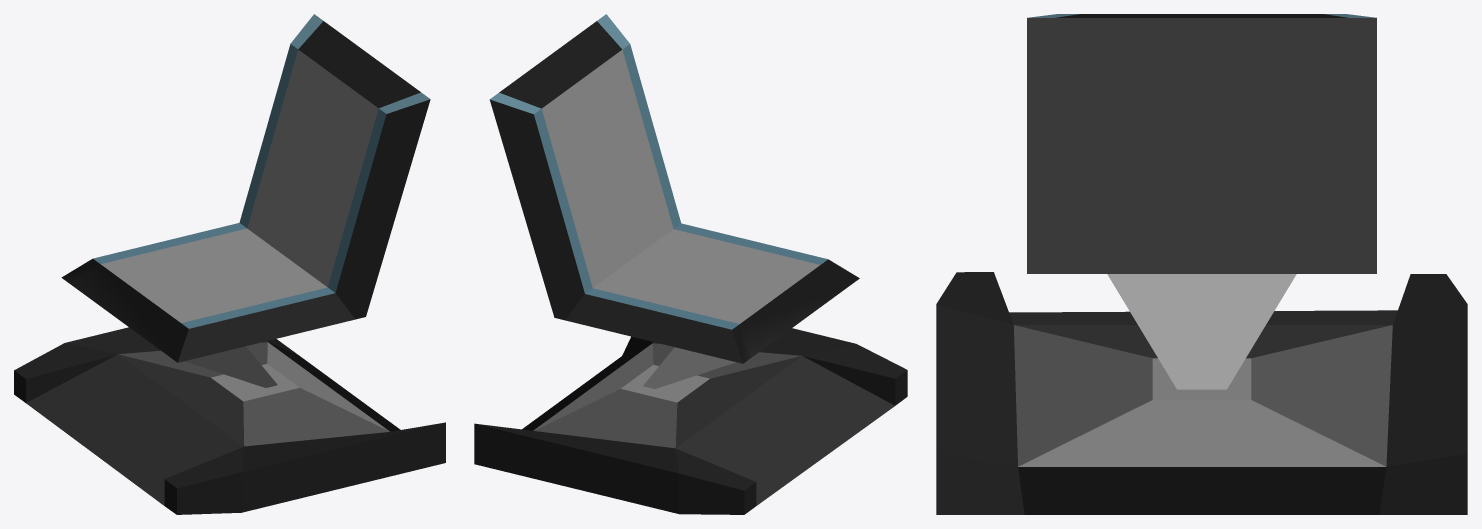
Rendered from SillaGamer.fbx.
3 views of the same model, side by side, from view 1: azimuth 30°, elevation 25°; view 2: azimuth 150°, elevation 25°; view 3: azimuth 270°, elevation 25° (orthographic). The views are drawn at different scales.
Visible parts, largest first — view 1: Cube.002; view 2: Cube.002; view 3: Cube.002.
Boxes of the visible parts, left/top/right/bottom form: Cube.002: left=14, top=14, right=445, bottom=514; Cube.002: left=474, top=14, right=907, bottom=514; Cube.002: left=936, top=14, right=1467, bottom=514.
Bounding box in the file's own units: 123 × 143 × 136.
1 material, 1 textured.
